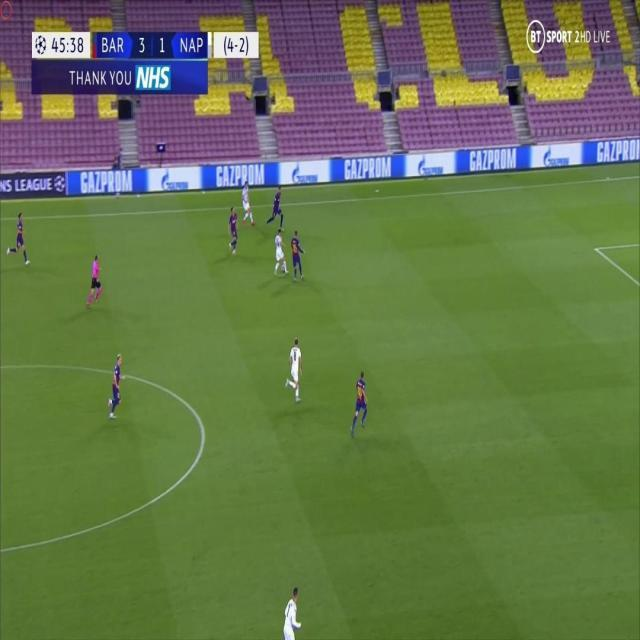player: (350, 367, 369, 437), (107, 349, 124, 422), (10, 207, 30, 267), (282, 583, 302, 640), (286, 334, 302, 405), (289, 228, 306, 283), (239, 177, 255, 228), (272, 228, 288, 278), (267, 186, 284, 228), (227, 201, 240, 255)
referee: (86, 251, 103, 308)
